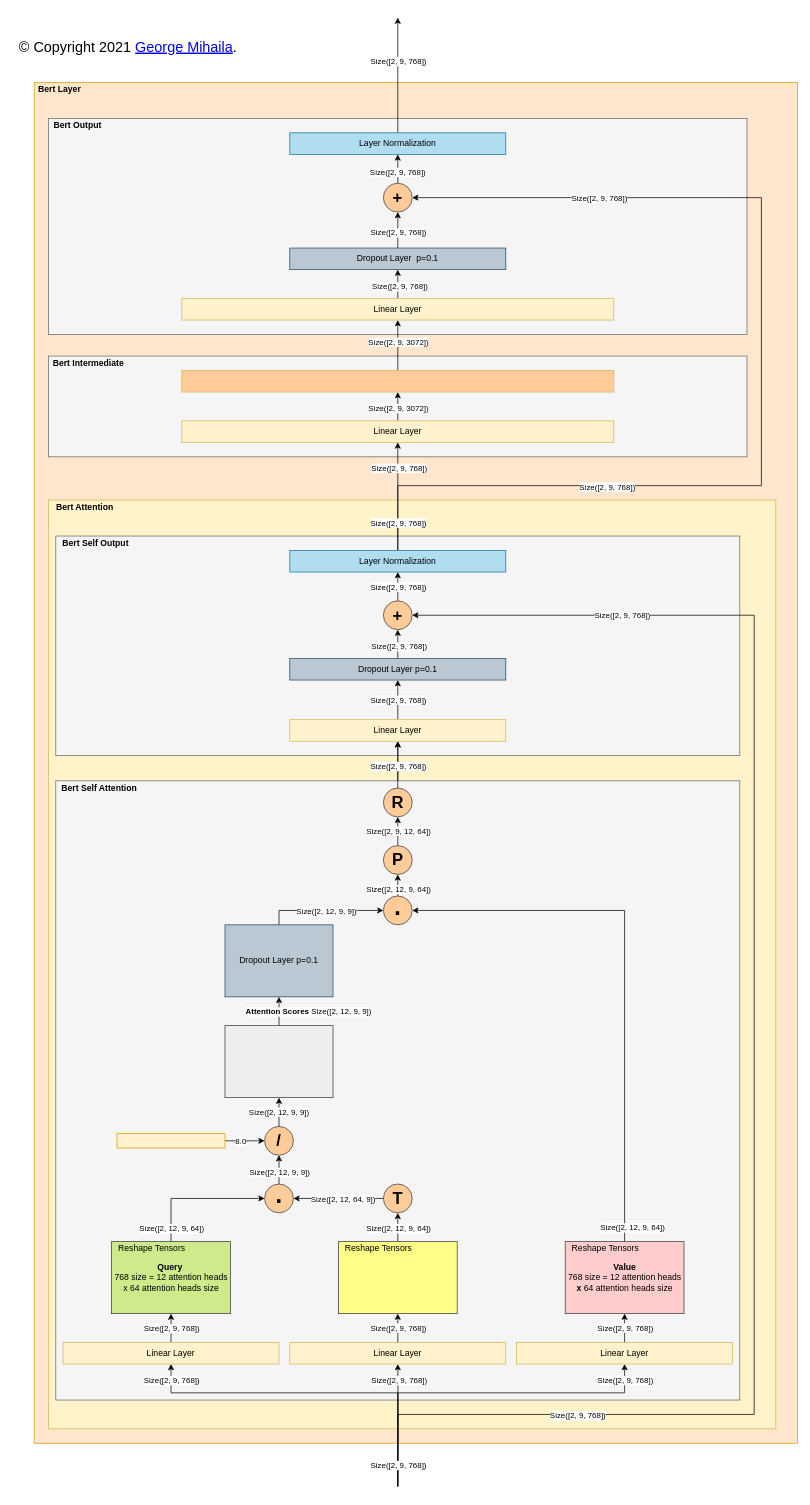
This 810x1505 diagram has some shape labels left out. The box of each missing label's shape, as (x1, y1, x2, y2) in pixels:
Gelu Activation Function: (181, 370, 614, 392)
Key 768 size = 12 attention heads x 64 attention heads size: (338, 1241, 457, 1314)
Softmax Layer: (224, 1025, 333, 1098)
sqrt(64 attention head size): (116, 1133, 225, 1148)
